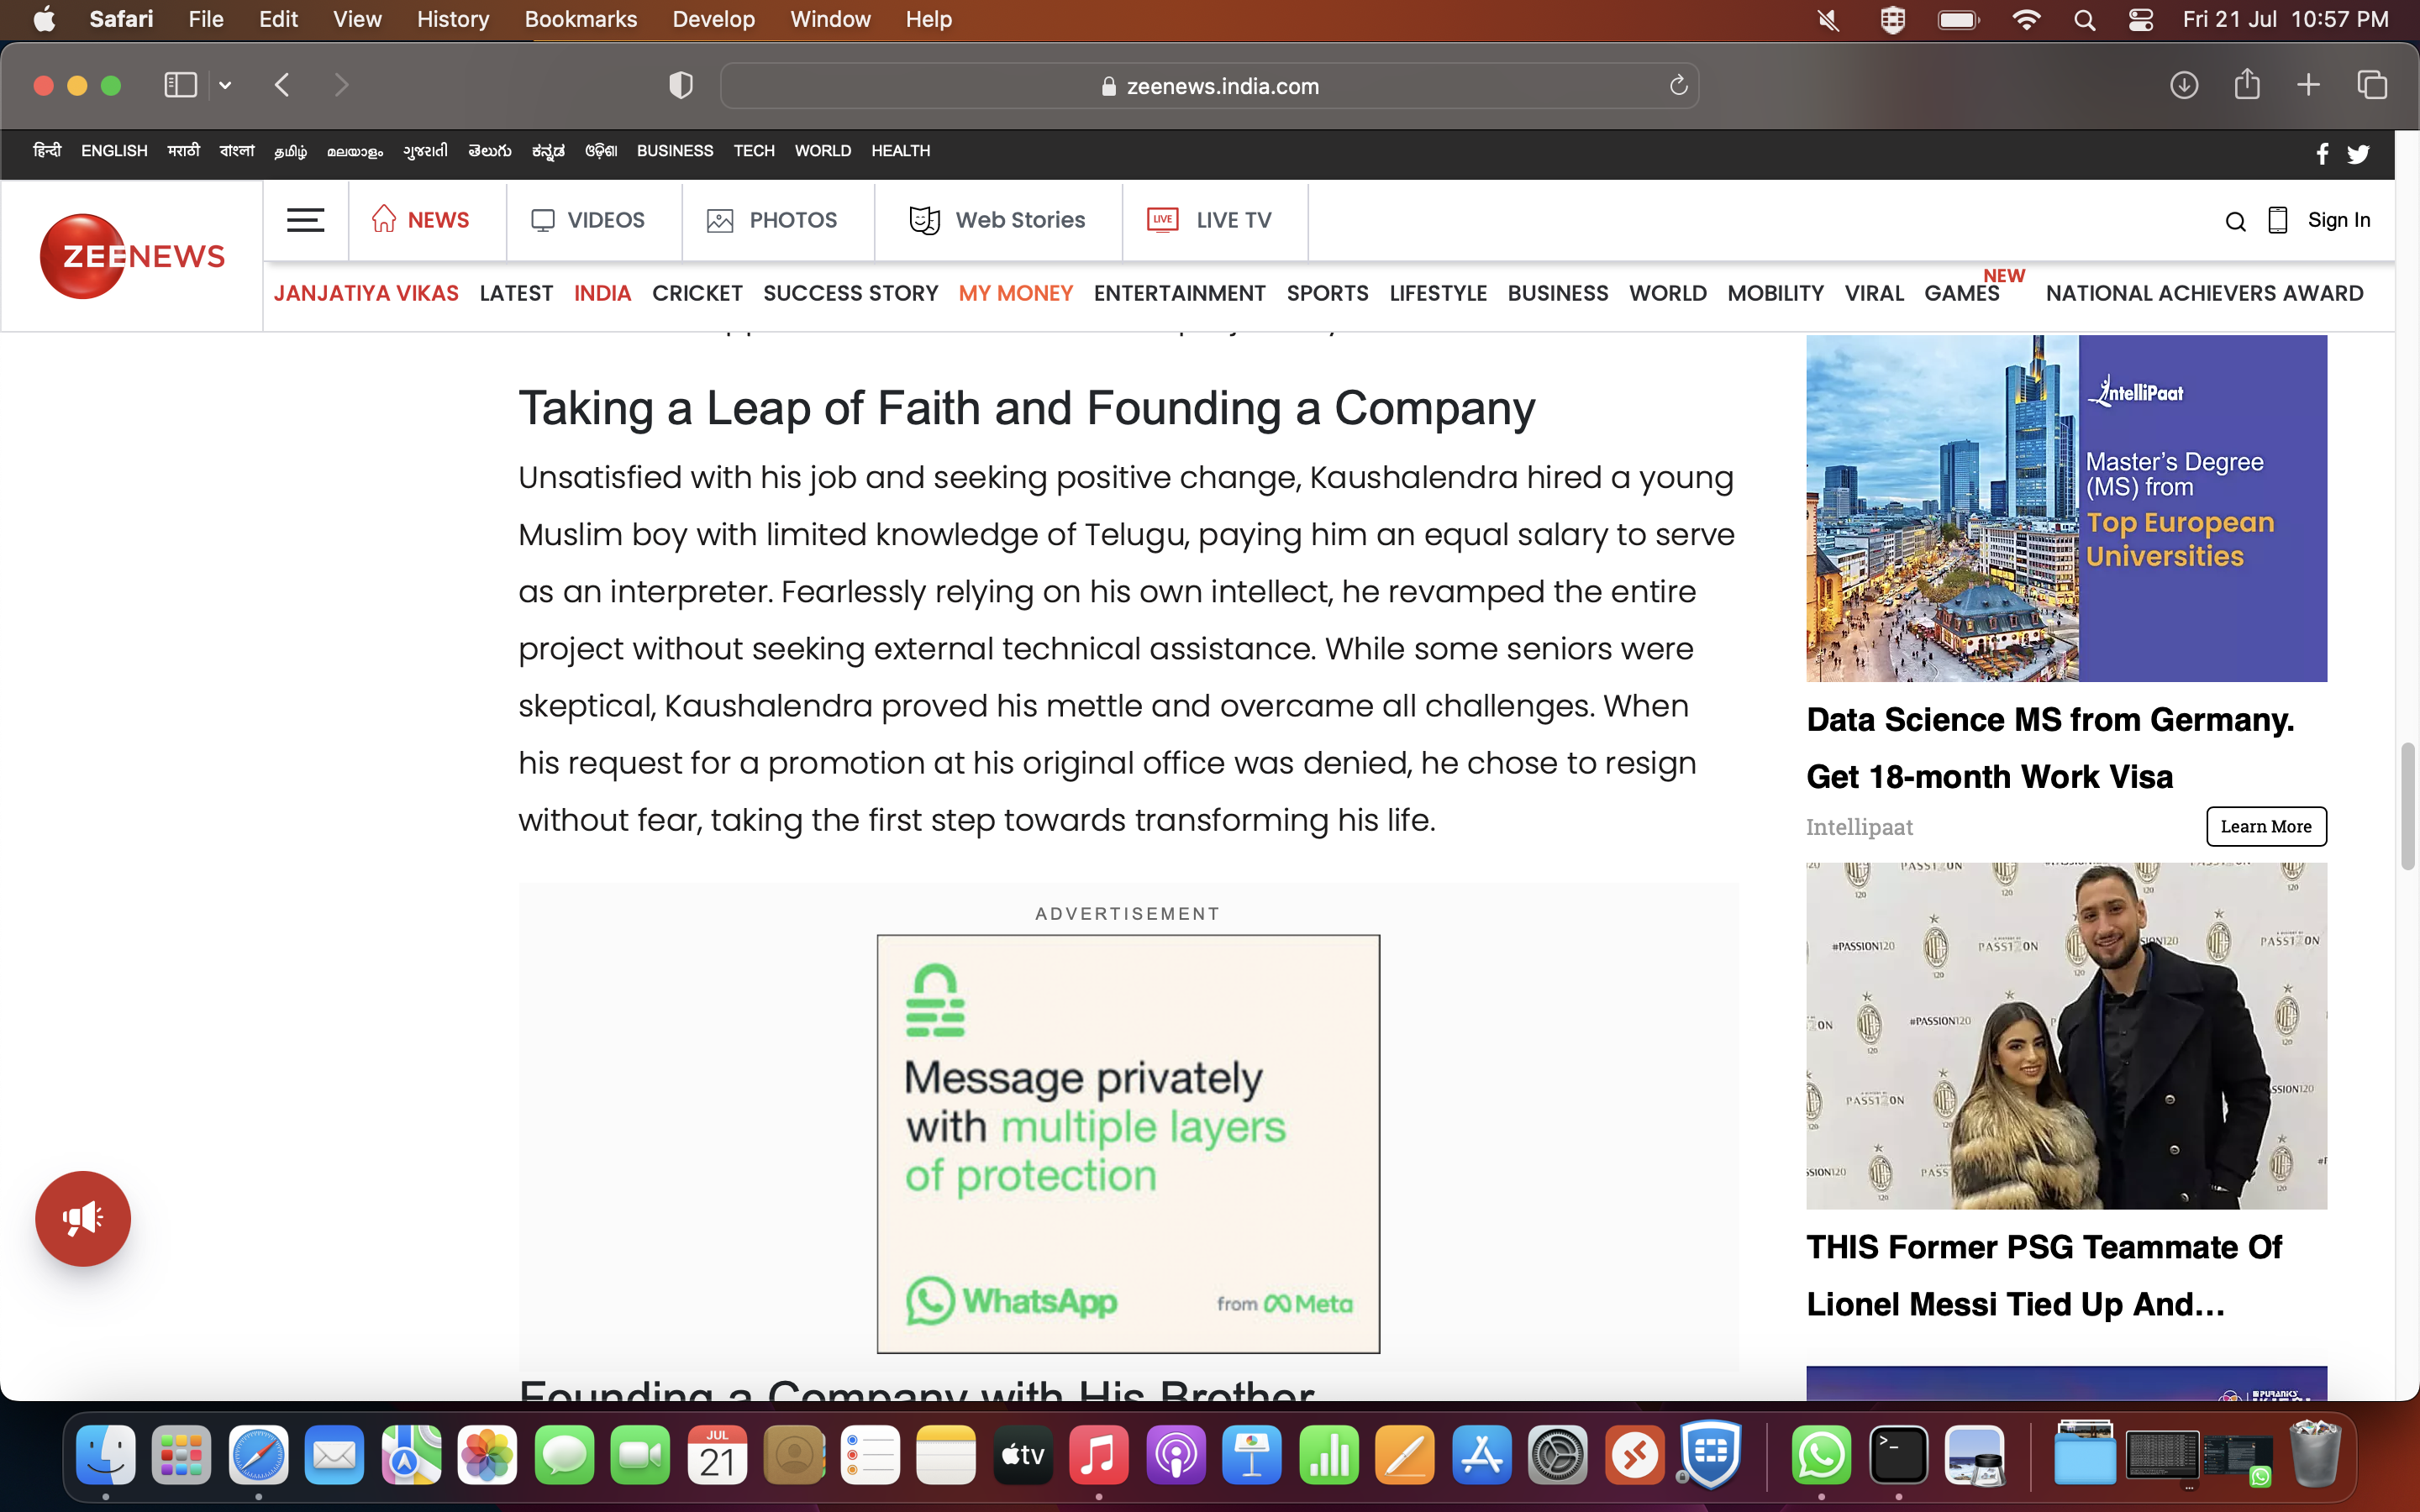Image: (876, 935, 1376, 1350), (1808, 861, 2315, 1209), (1808, 336, 2322, 674), (40, 1157, 127, 1261)
Paragraph: (507, 441, 1753, 843), (510, 362, 1547, 435), (1805, 690, 2305, 794), (1801, 1226, 2300, 1320), (49, 216, 246, 280), (265, 261, 467, 314), (477, 272, 556, 310)
